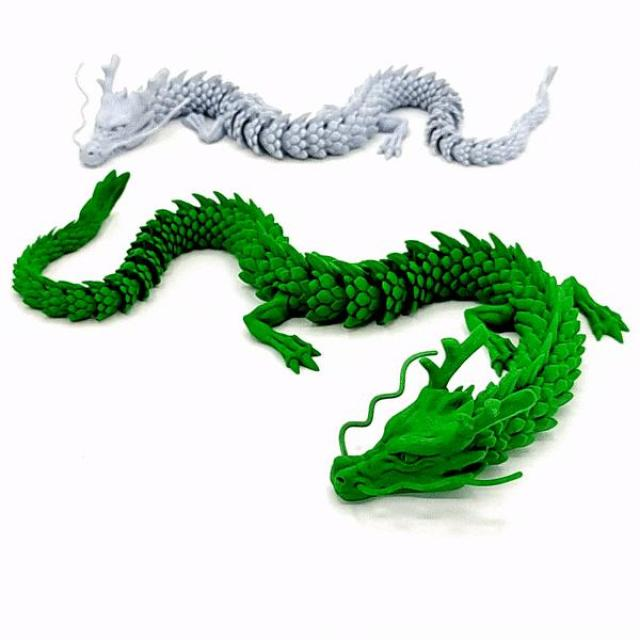Without deffect: (15, 38, 634, 512)
